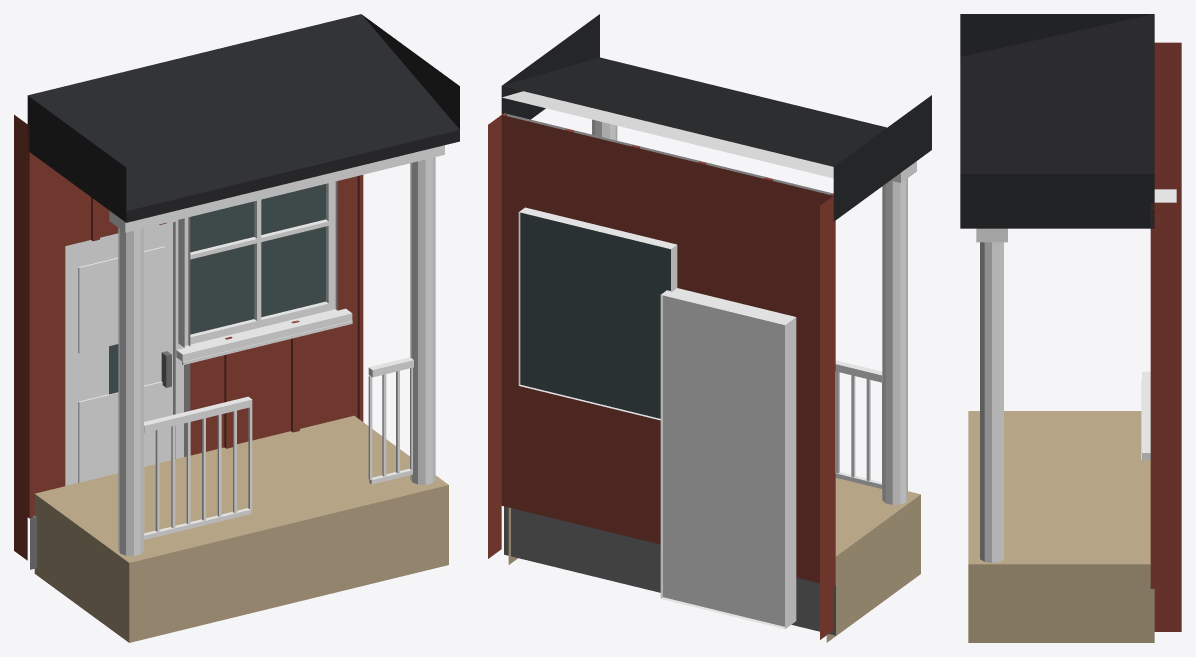
The model's file is base-stair_close.fbx.
3 renders of one model, left to right at view 1: azimuth 30°, elevation 25°; view 2: azimuth 150°, elevation 25°; view 3: azimuth 270°, elevation 25°, orthographic.
Parts seen in each view (by area): view 1: a2015/600/base-stair_close; view 2: a2015/600/base-stair_close; view 3: a2015/600/base-stair_close.
Boxes of the visible parts, box(x1,y1,x2,y2) form: a2015/600/base-stair_close: box(14, 14, 459, 642); a2015/600/base-stair_close: box(488, 14, 931, 642); a2015/600/base-stair_close: box(960, 14, 1181, 642).
Bounding box in the file's own units: 2.4 × 3.3 × 1.4.
